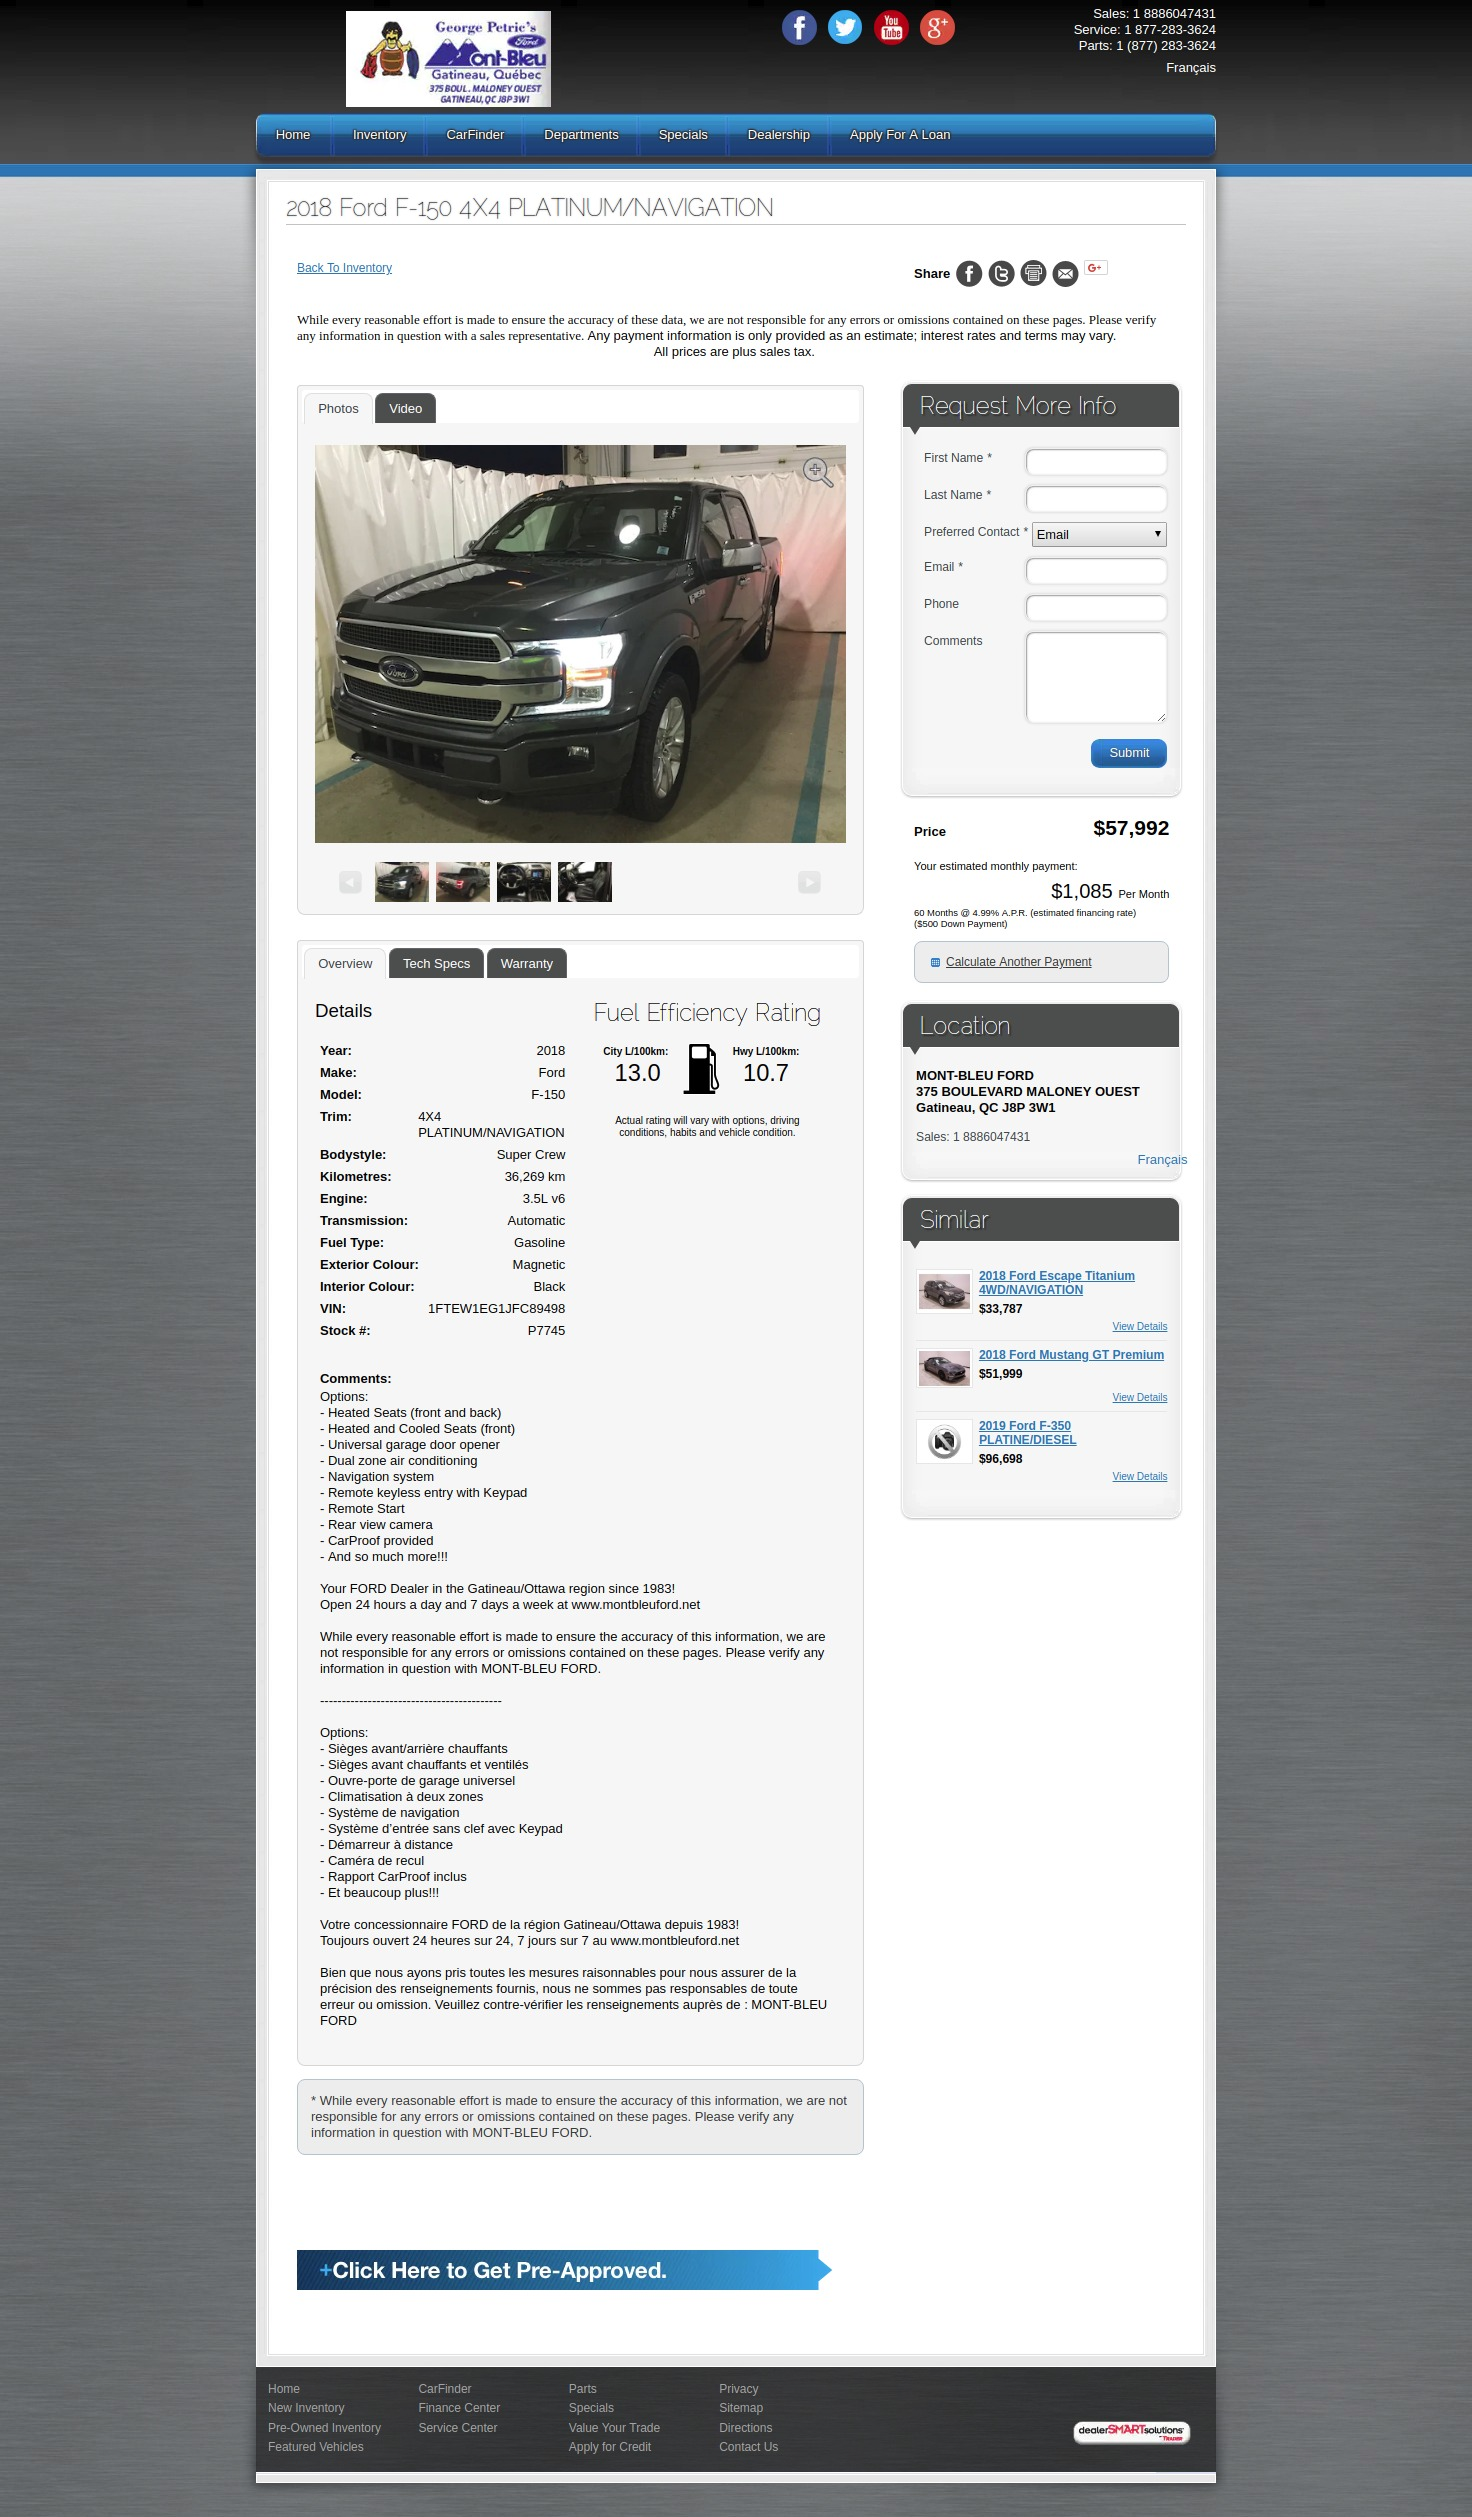car: (806, 878, 817, 890)
